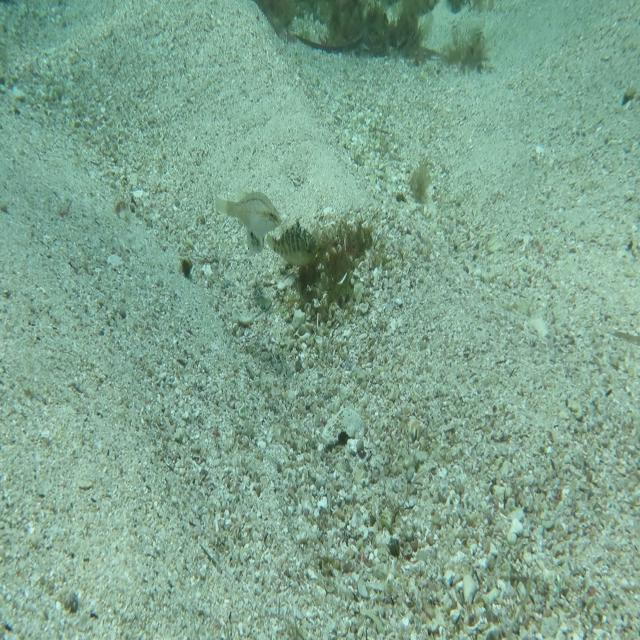BEND_OPP: (262, 210, 326, 276)
female: (242, 211, 270, 260)
nest: (274, 210, 377, 324)
other_fish: (213, 181, 283, 244)
